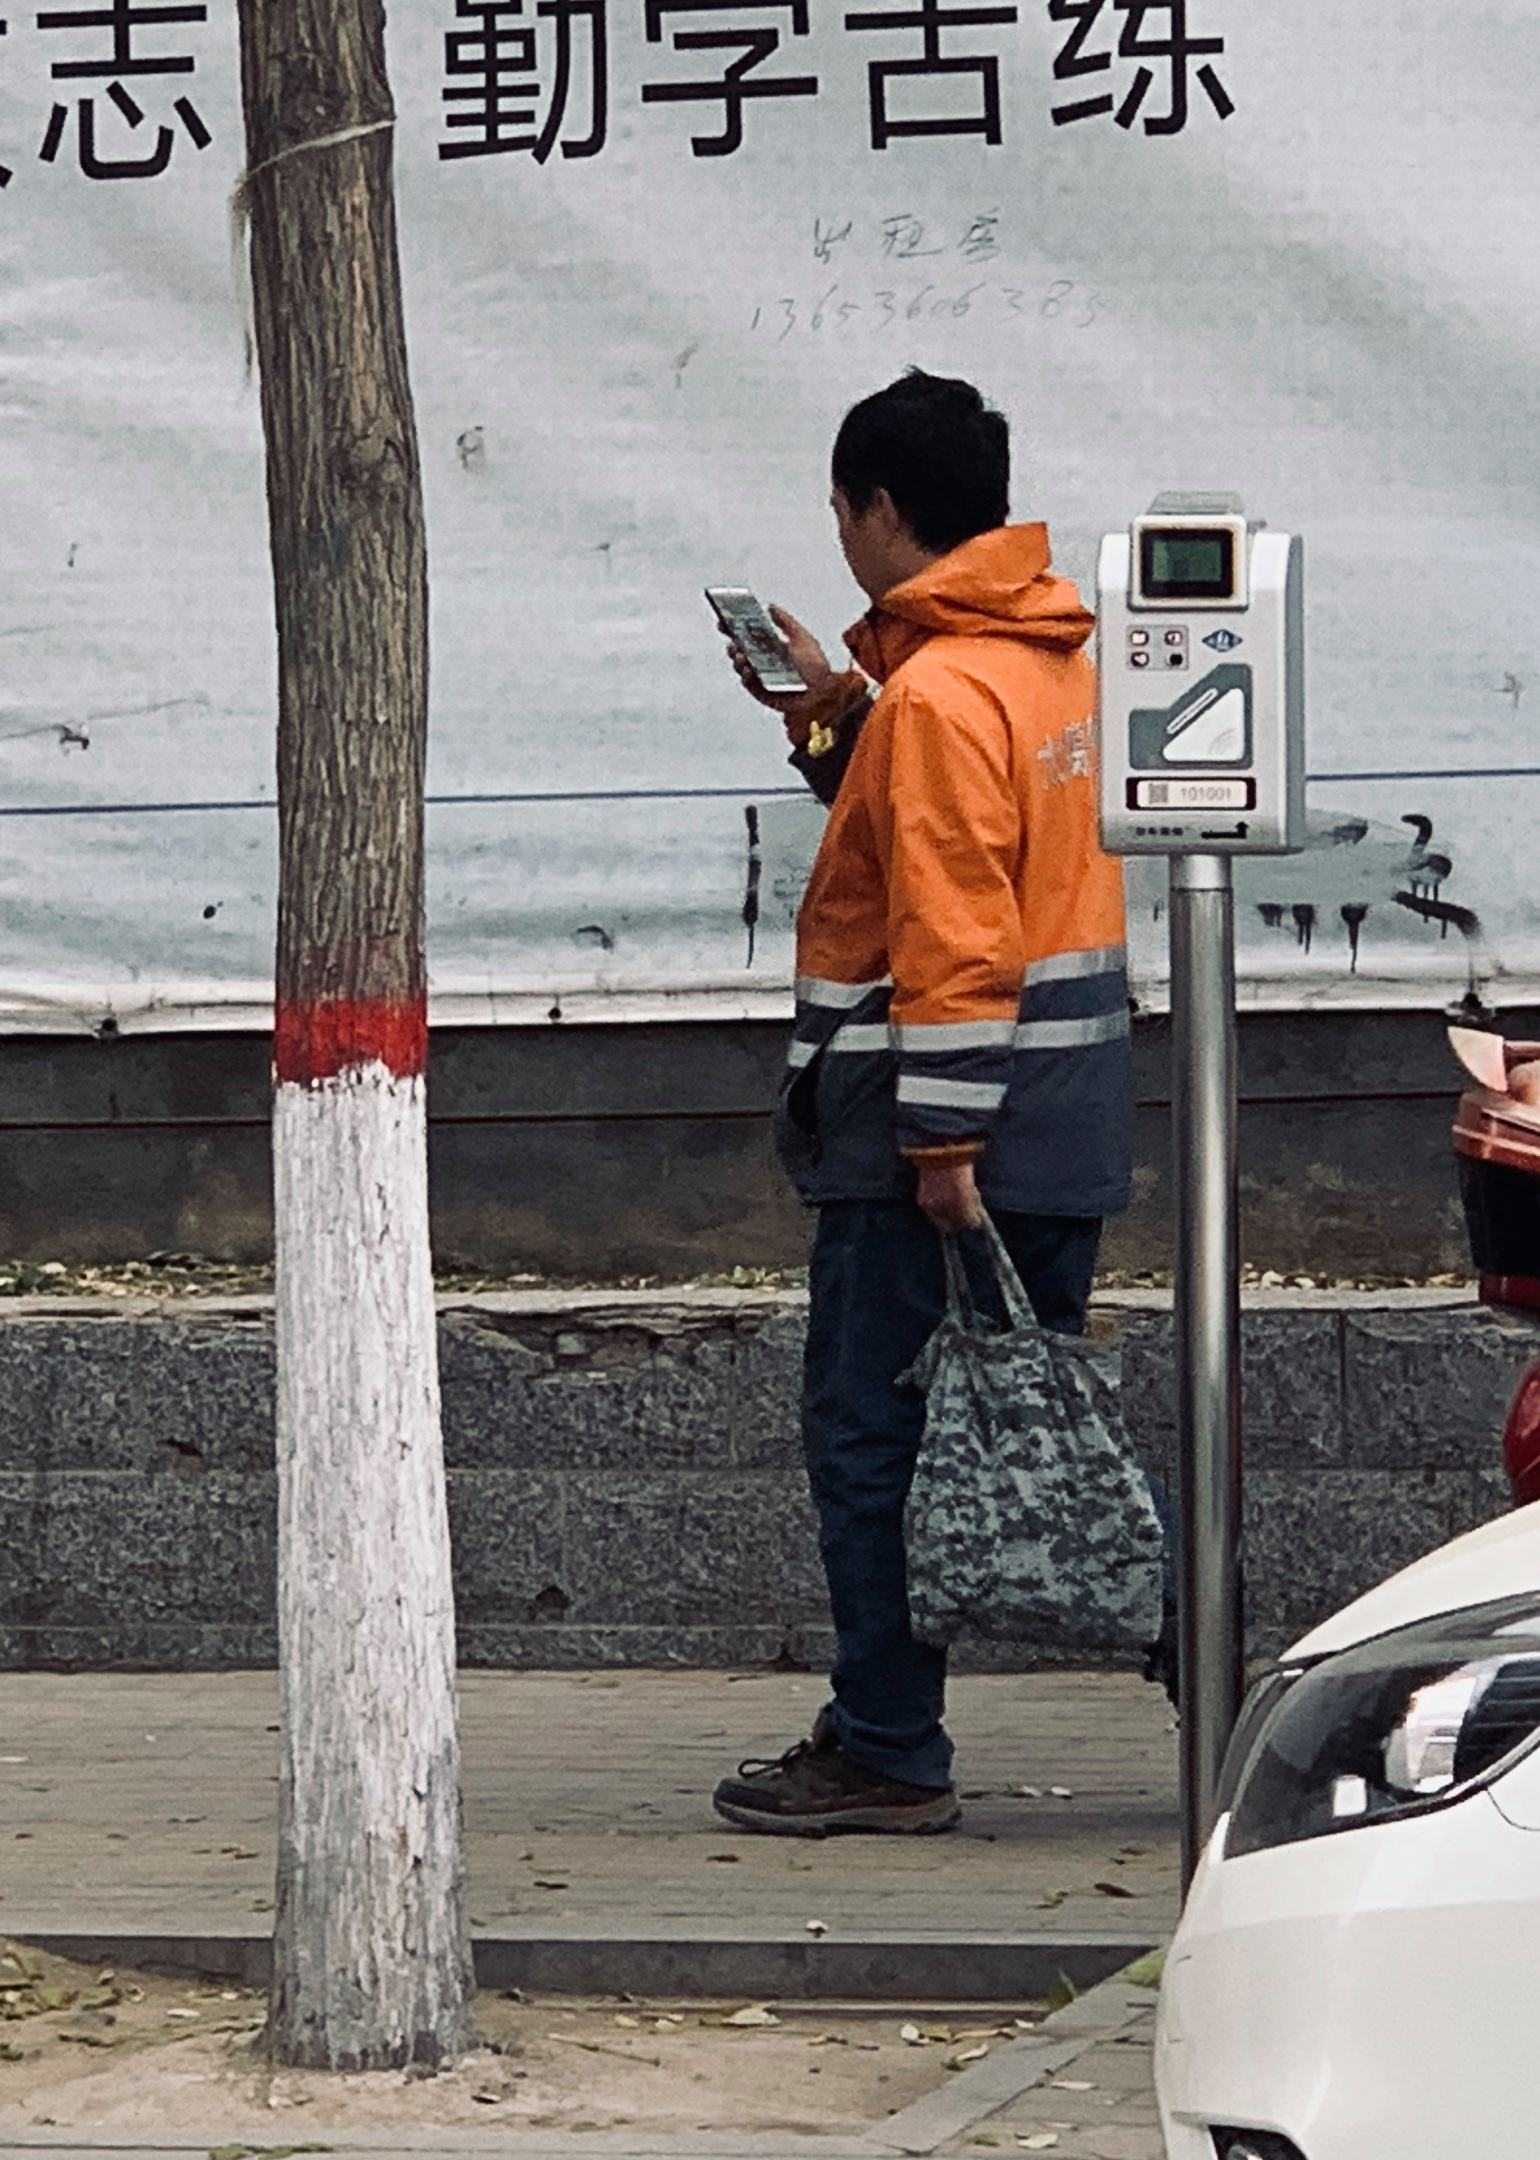reading: (693, 573, 838, 727)
